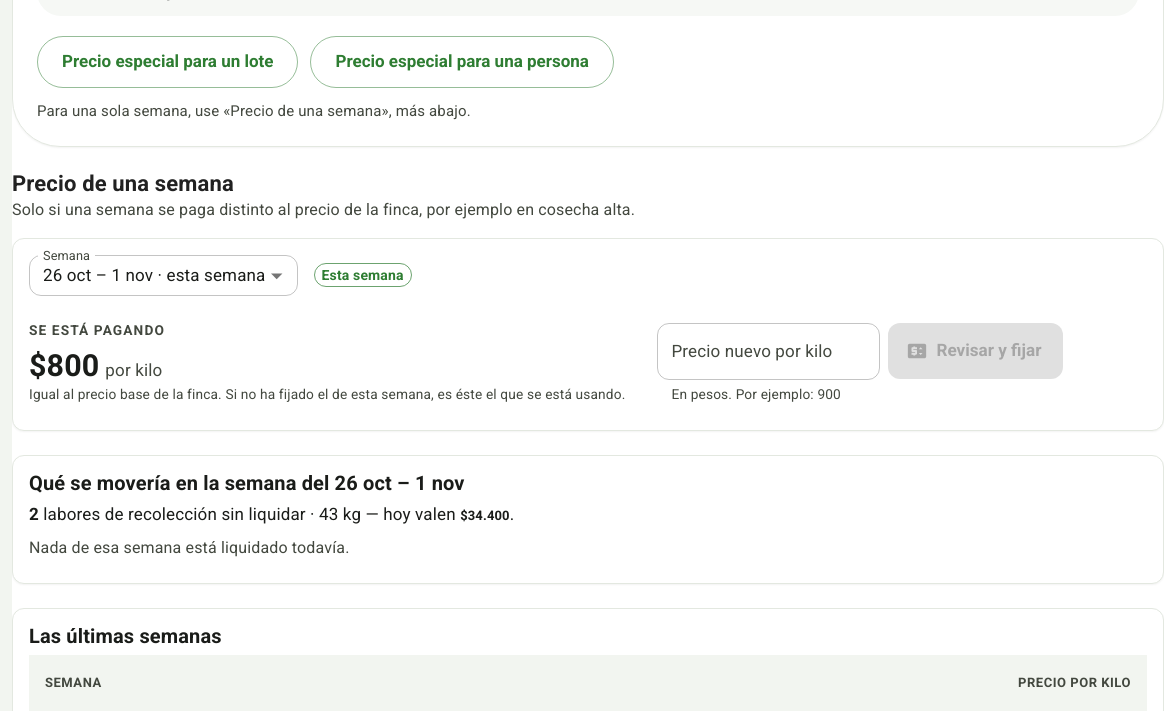
it: setting the week's price per kilo › does not accept a price that is not a price
(page scrolled)
Type "abc" into the field labelled "Precio nuevo por kilo".
click(769, 351); type("abc")  # box top-left (657, 323), bottom-right (880, 380)
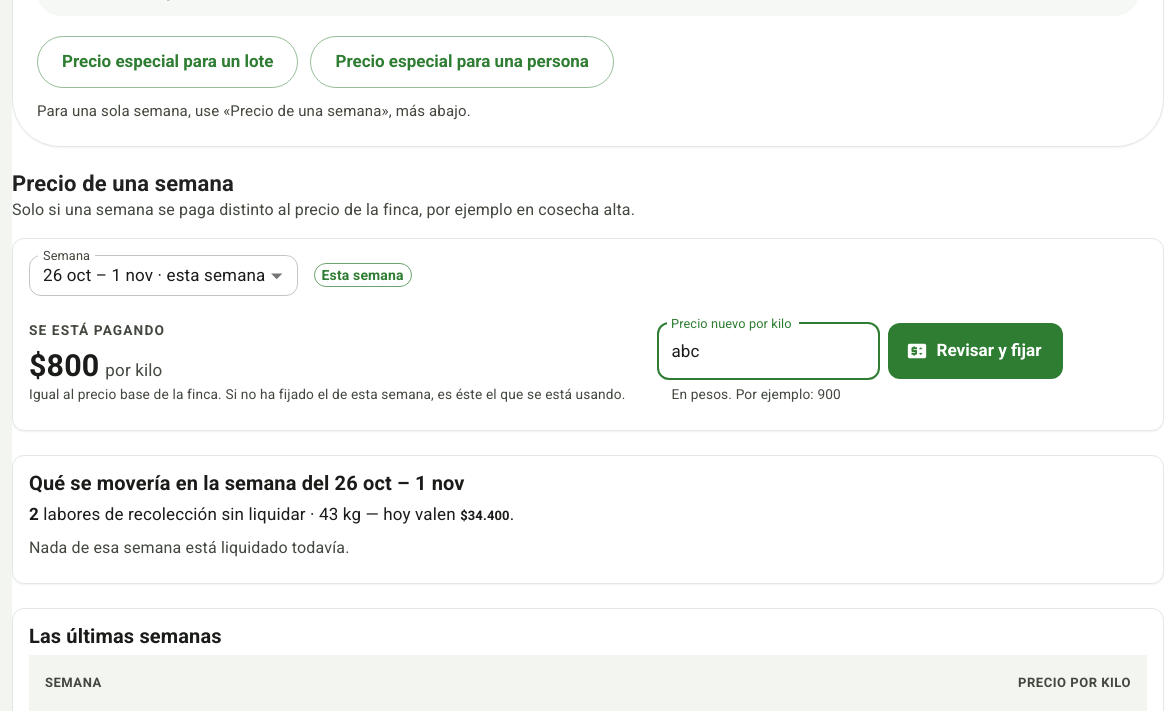
Click the button "Revisar y fijar".
click(976, 351)  # box top-left (888, 323), bottom-right (1063, 379)
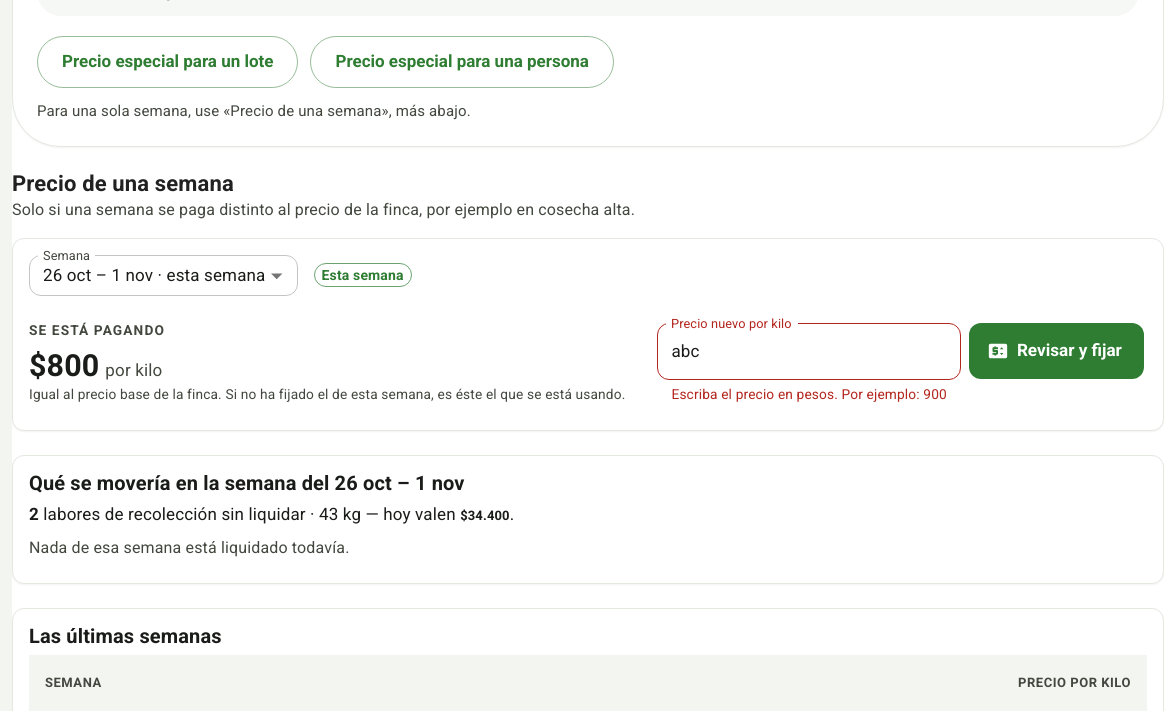
Expected: the text "Escriba el precio en pesos. Por ejemplo: 900" is shown, top-left (671, 383), bottom-right (947, 406)
